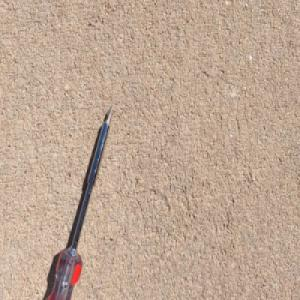Screwdriver: (44, 104, 114, 300)
